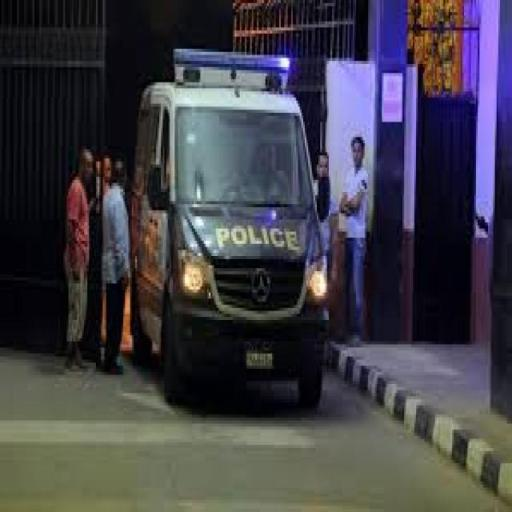Ambulance: (130, 44, 332, 411)
